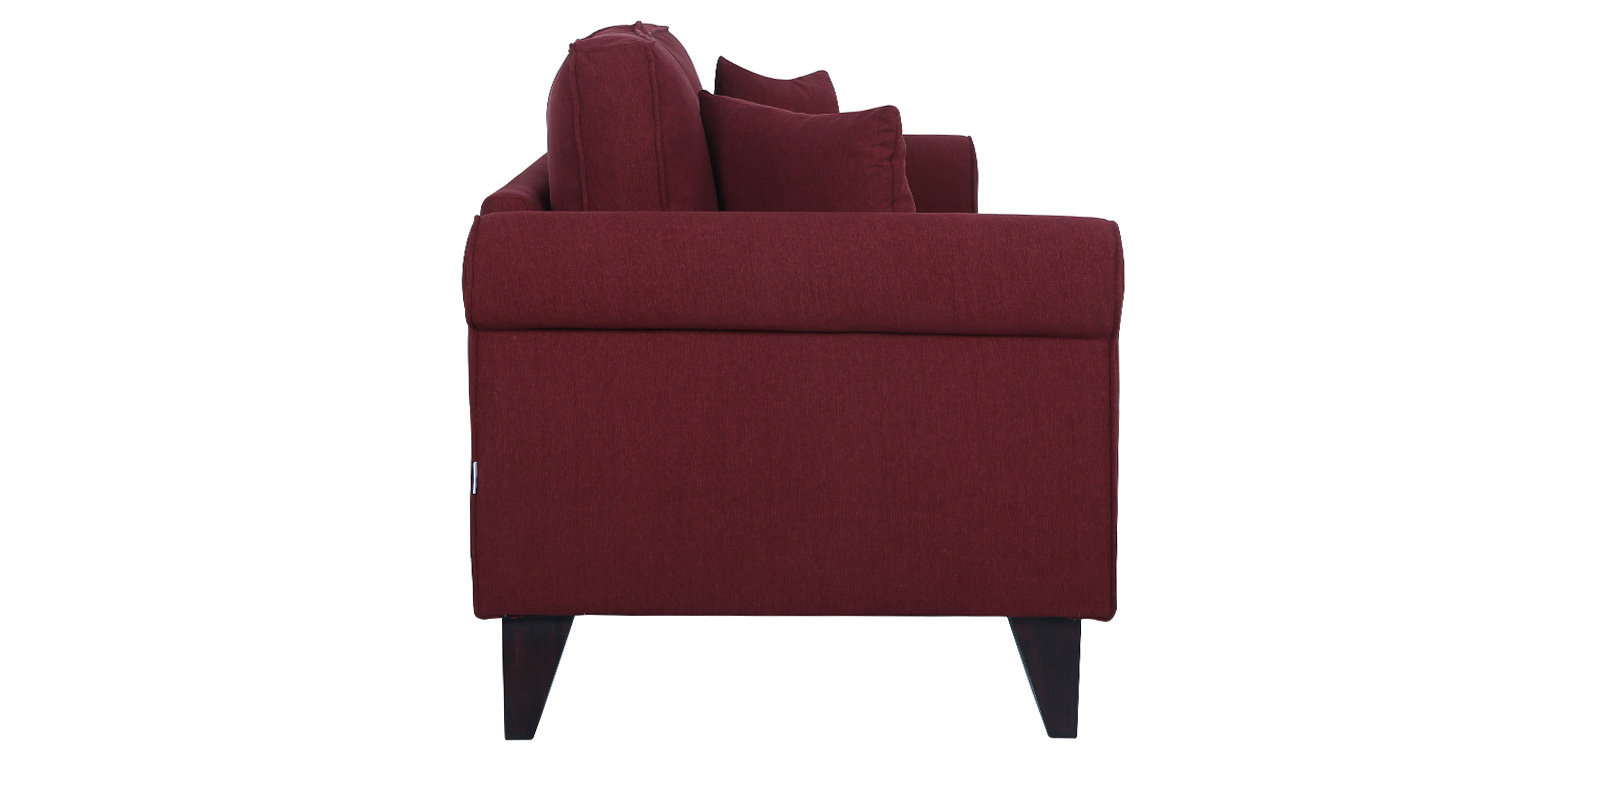Fuego Three Seater Sofa in Garnet Red Colour by CasaCraft: (445, 13, 1142, 756)
